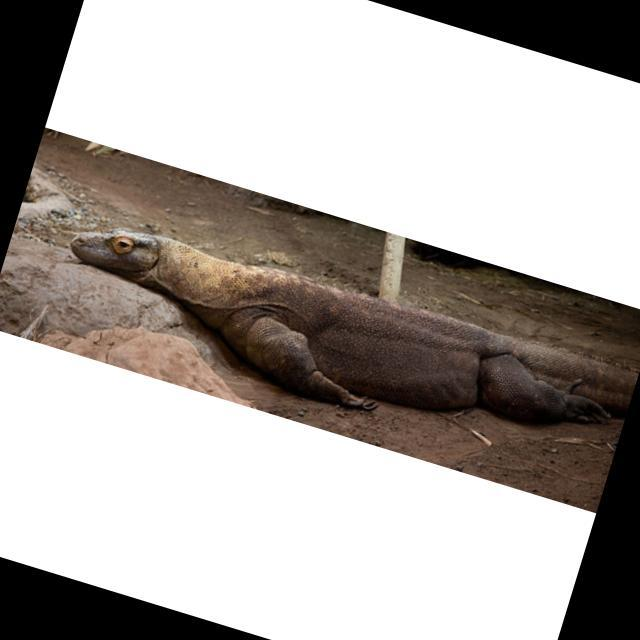KomodoDragon: (46, 199, 637, 486)
